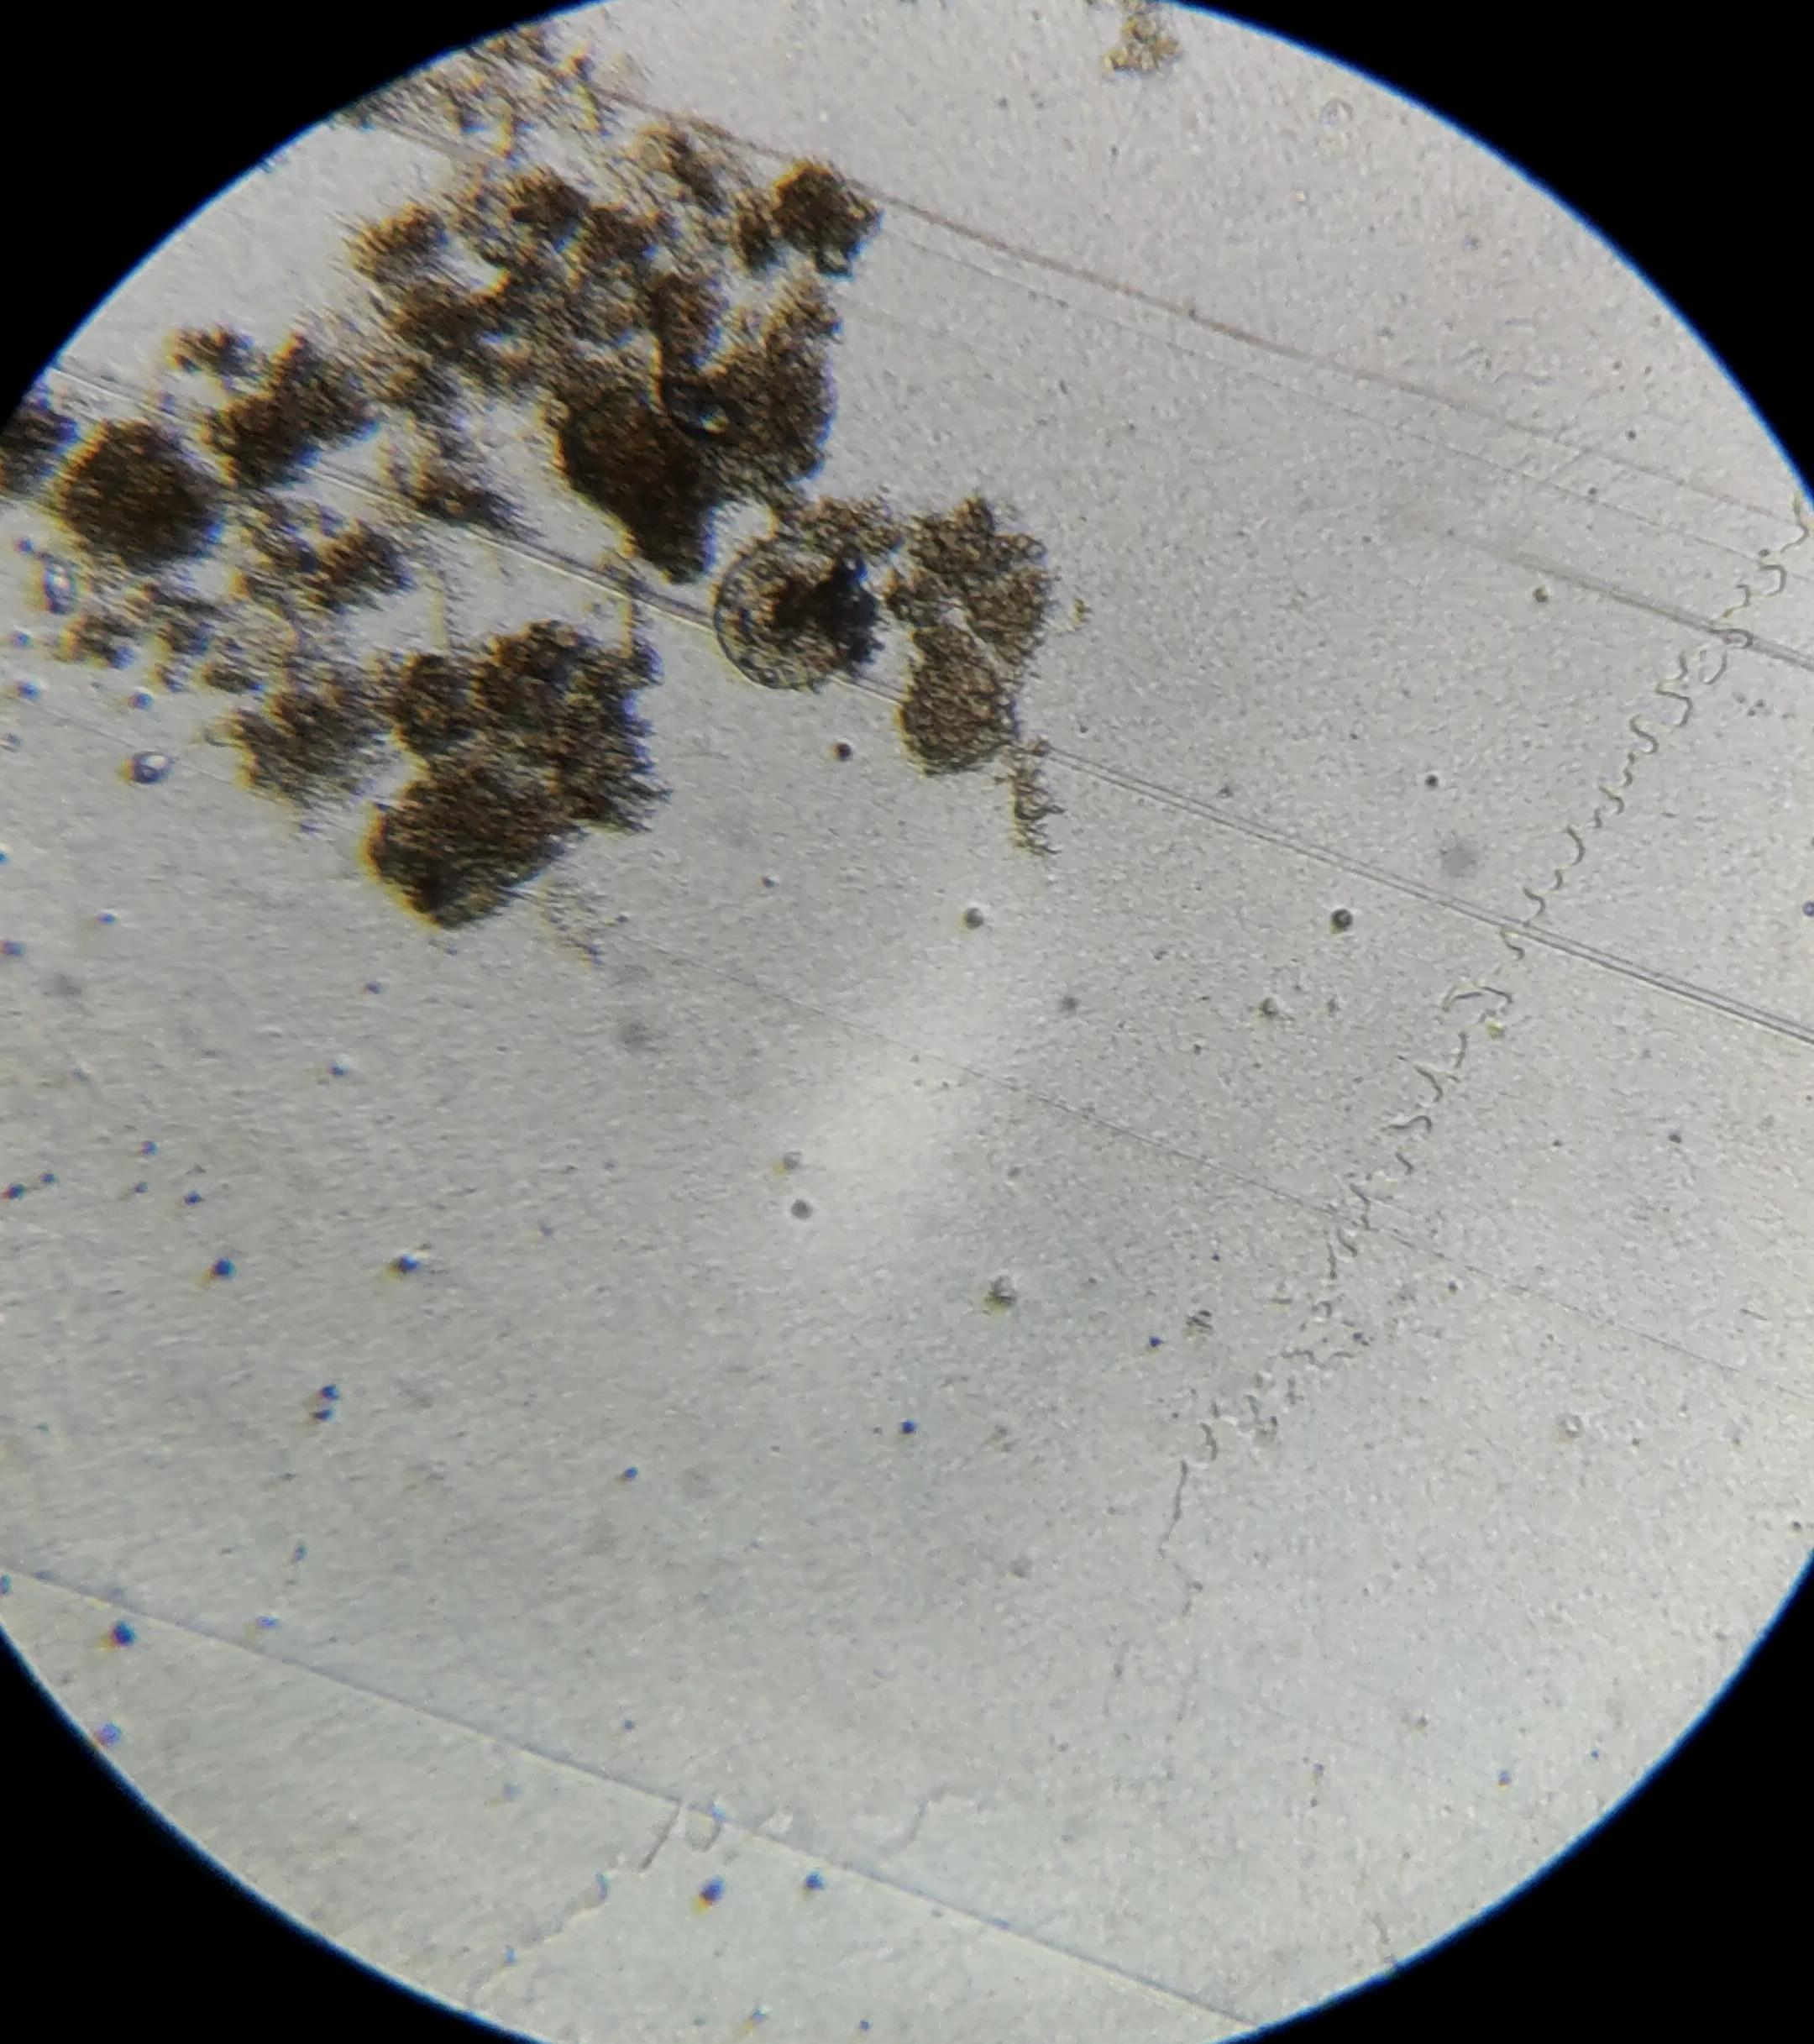Arcella: (714, 539, 858, 690)
